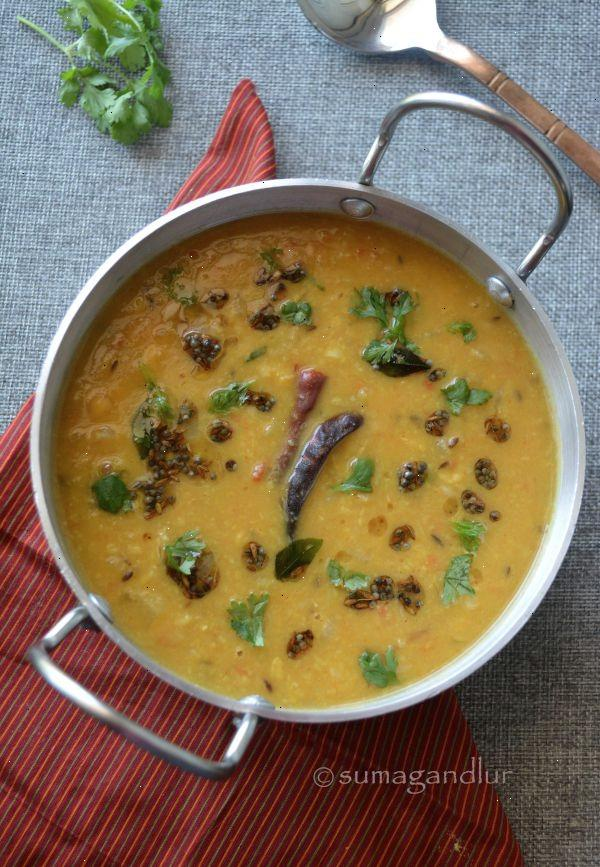daal: (73, 247, 567, 702)
